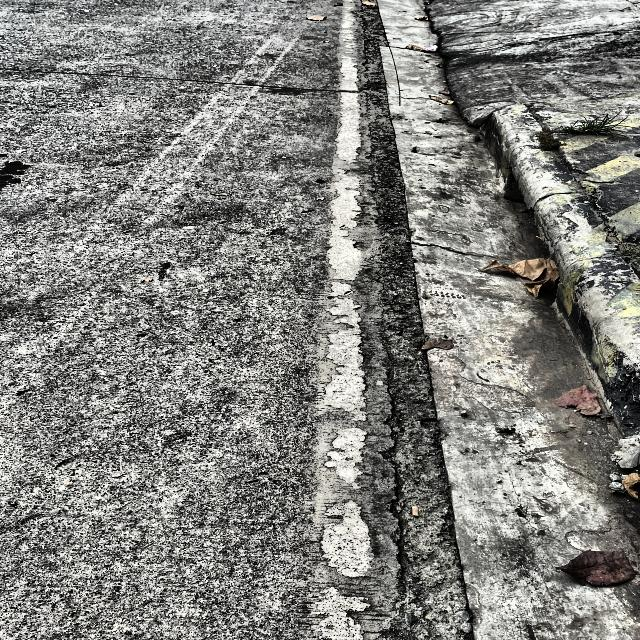no_or_faded_road_markings: (318, 165, 367, 490), (322, 499, 372, 578), (336, 29, 361, 164), (315, 587, 370, 629)
